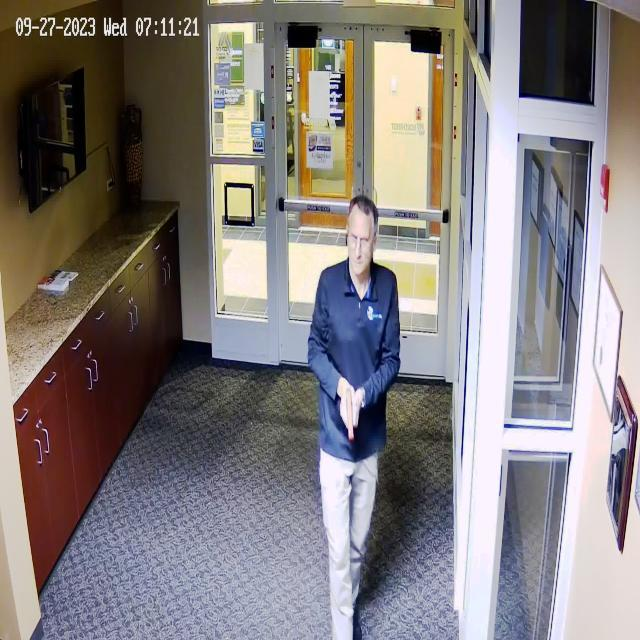Gun: (330, 381, 371, 448)
